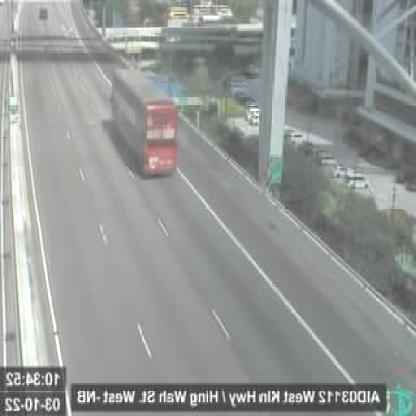Bus: (112, 66, 177, 171)
